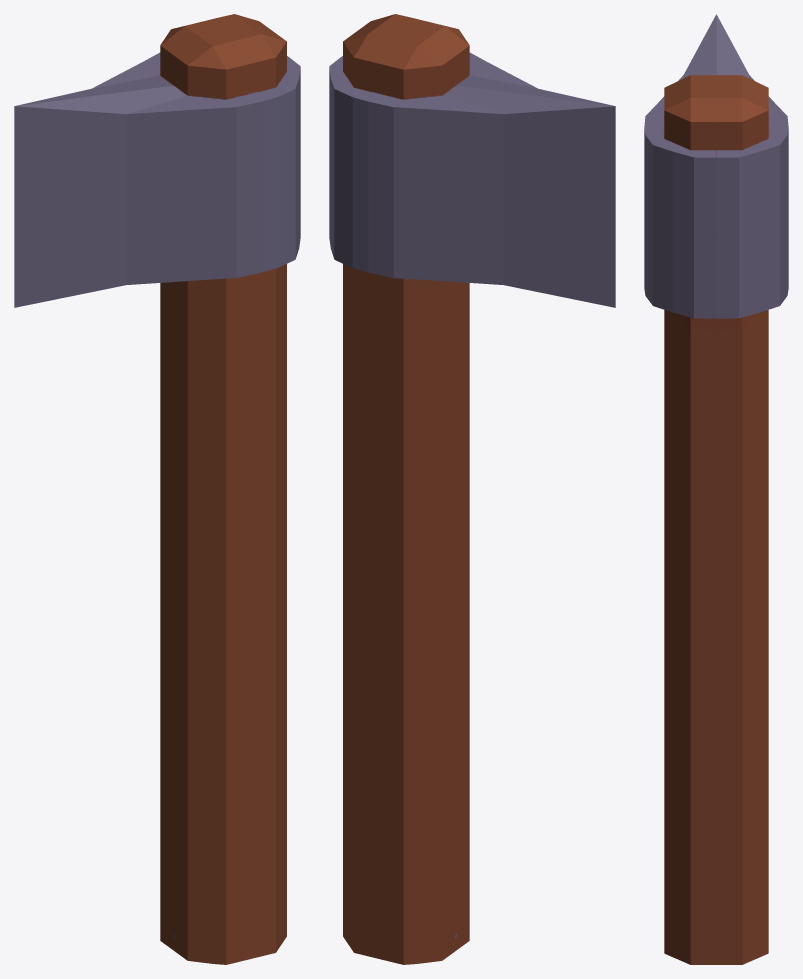
Rendered from axe.fbx.
The picture shows the model from 3 angles, left to right: view 1: azimuth 30°, elevation 25°; view 2: azimuth 150°, elevation 25°; view 3: azimuth 270°, elevation 25°; orthographic projection. The views are drawn at different scales.
Parts seen in each view (by area): view 1: Axe; view 2: Axe; view 3: Axe.
Boxes of the visible parts, x1,y1,x2,y2 form: Axe: [14, 14, 300, 964]; Axe: [329, 14, 615, 964]; Axe: [644, 14, 788, 964].
Bounding box in the file's own units: 64.94 × 207 × 31.31.
